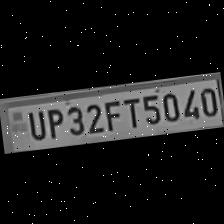0: (157, 88, 180, 122), (196, 82, 218, 116)
2: (83, 99, 104, 134)
3: (62, 101, 84, 136)
4: (177, 84, 200, 120)
5: (137, 90, 160, 126)
F: (100, 95, 122, 131)
P: (43, 104, 64, 138)
T: (120, 93, 140, 129)
U: (24, 107, 46, 140)
